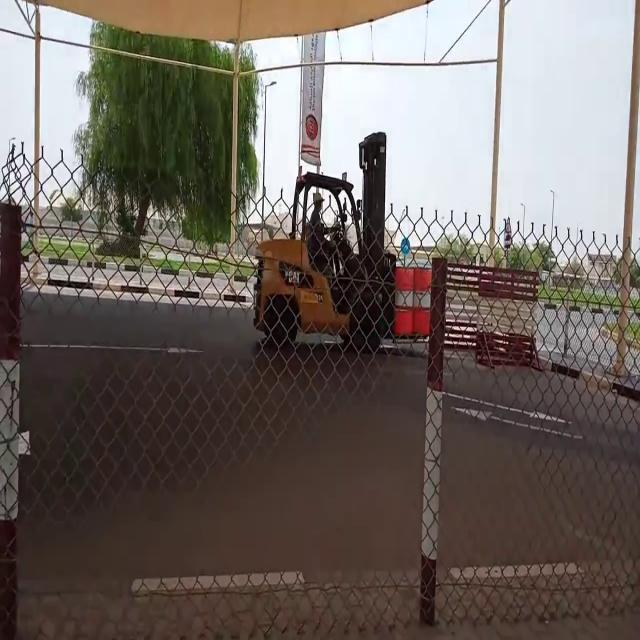forklift: (264, 176, 380, 357)
